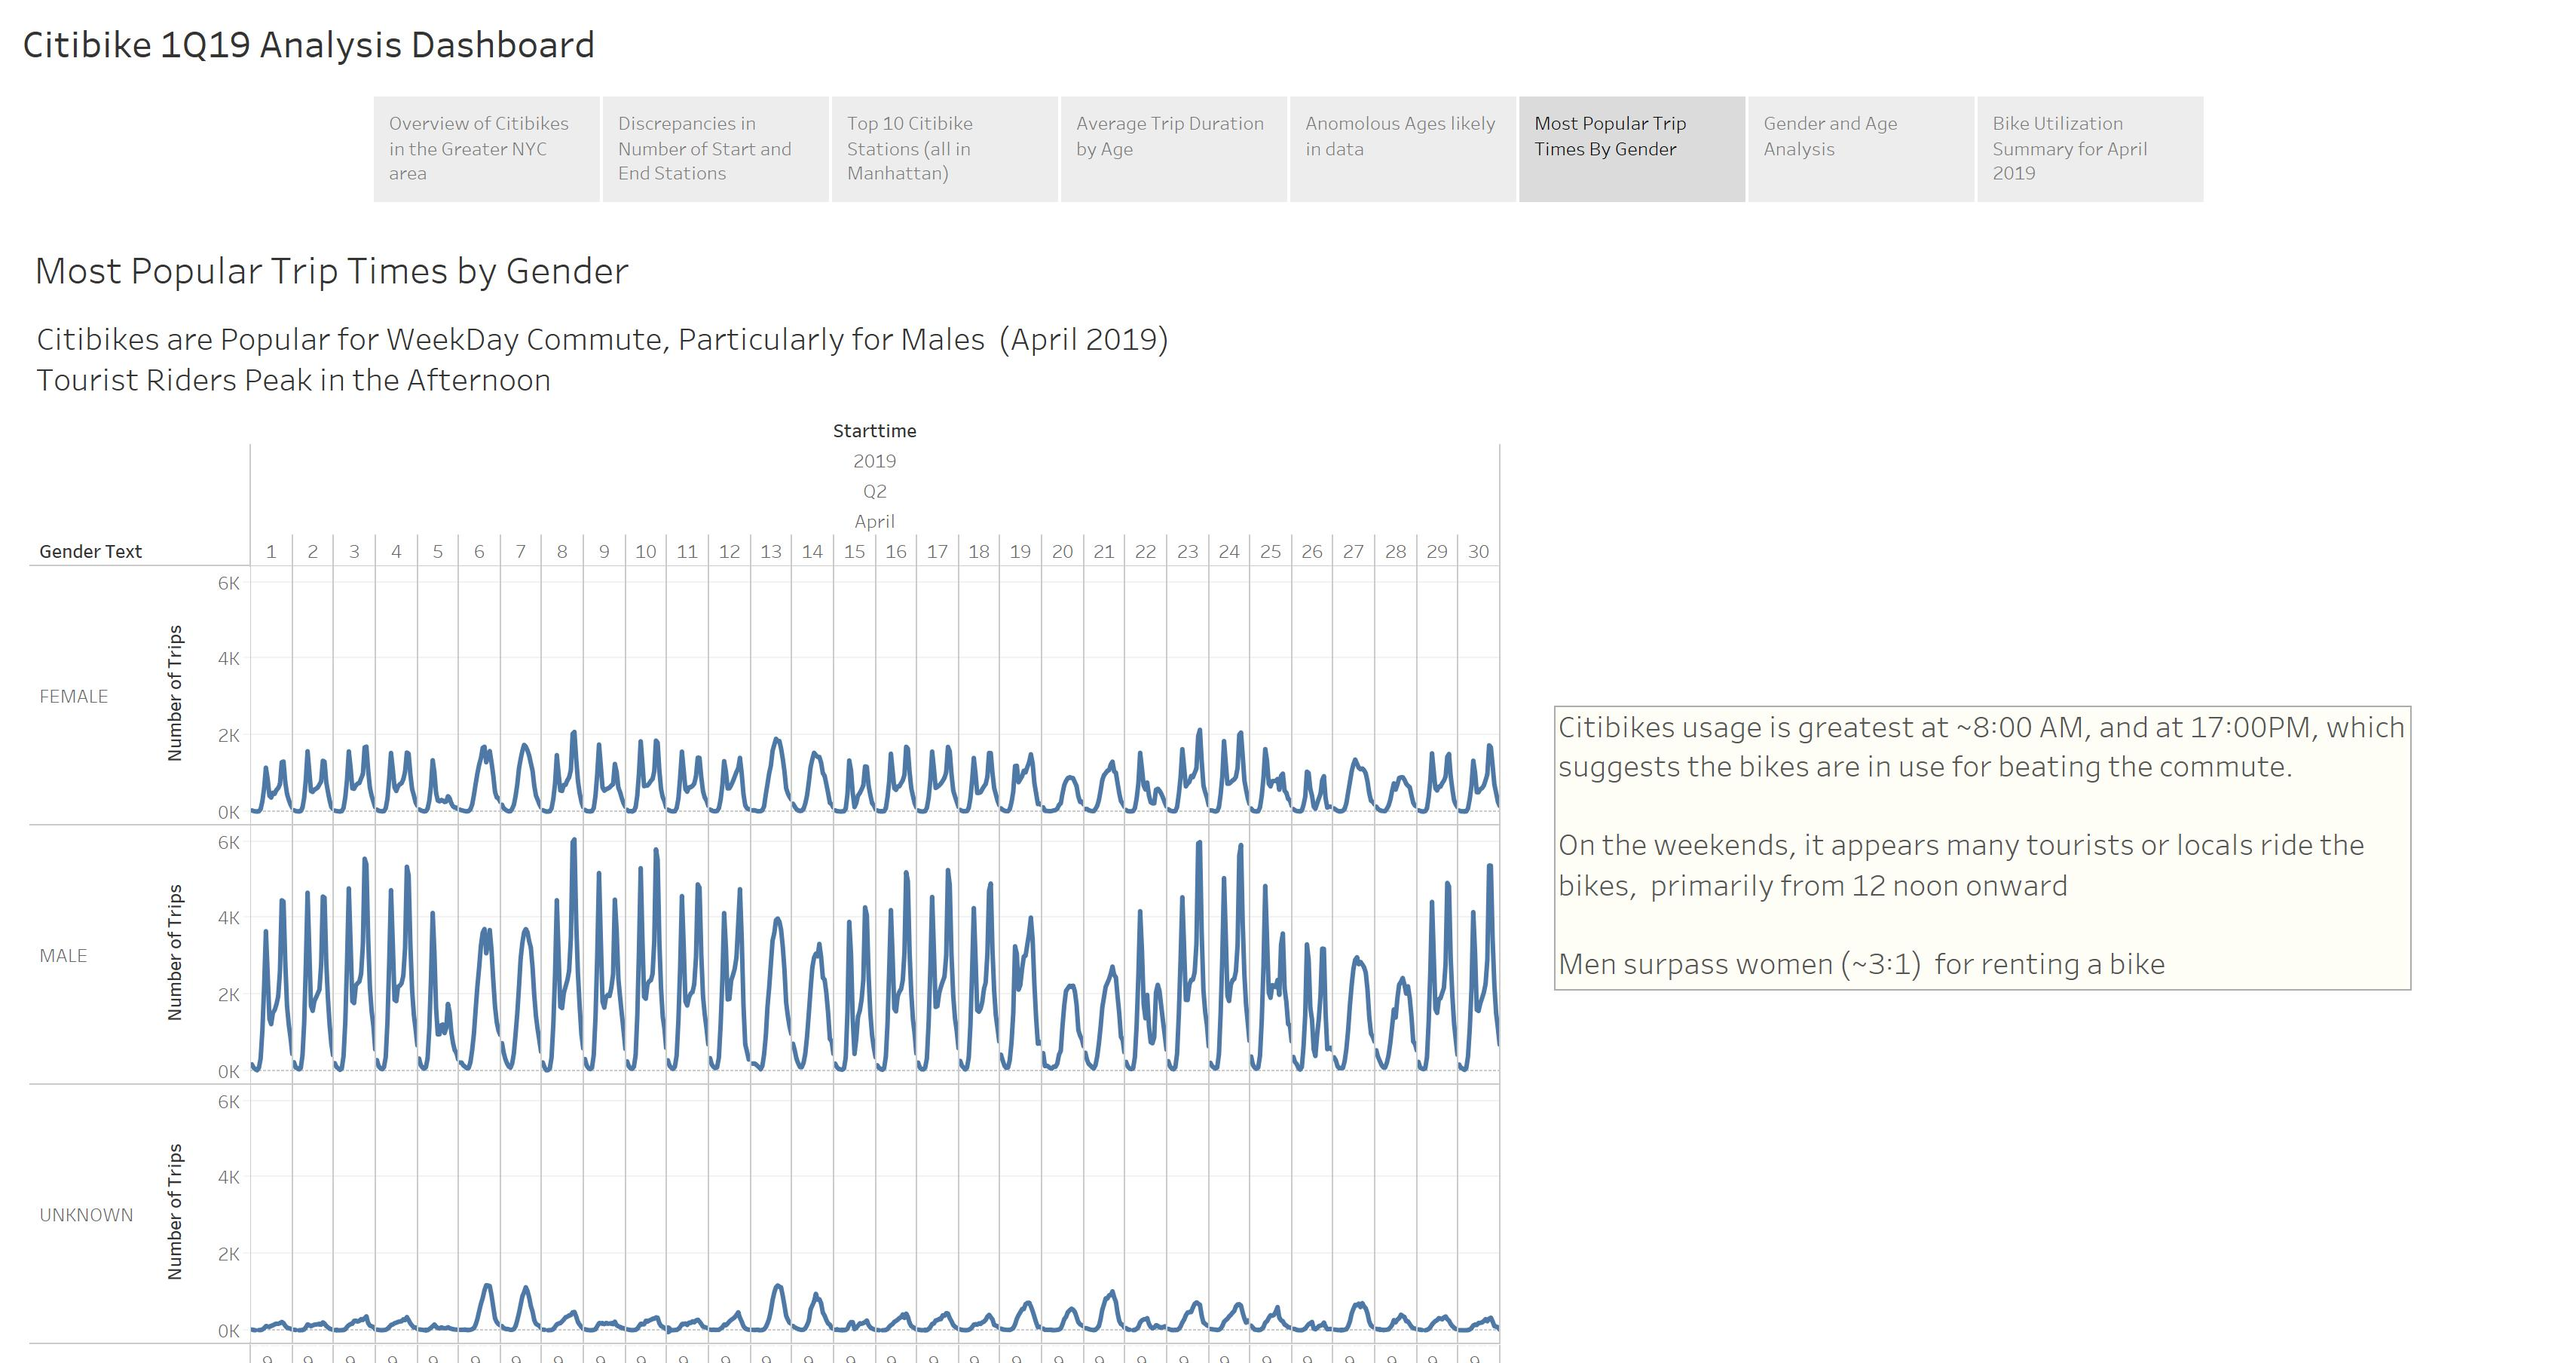

Layout of this report page (visuals, bound fields, positions):
{"tool":"tableau","page":{"name":"Most Popular Trip Times by Gender","canvas":[1000,800],"ordinal":3},"visuals":[{"type":"title","box":[8,8,984,42]},{"type":"worksheet","title":"Trip Times","mark":"Automatic","rows":["Calculation_978970029277655041","Number of Records"],"cols":["starttime","starttime","starttime","starttime","starttime"],"box":[8,50,984,742]}]}

Visuals, with their boxes on the page's 1000x800 design canvas (x1, y1, x2, y2). These are canvas units, not pixel positions in the 2576x1363 screenshot, which may show the page scaled, cropped or inside an application window:
title: Rect(8, 8, 992, 50)
"Trip Times" worksheet: Rect(8, 50, 992, 792)
